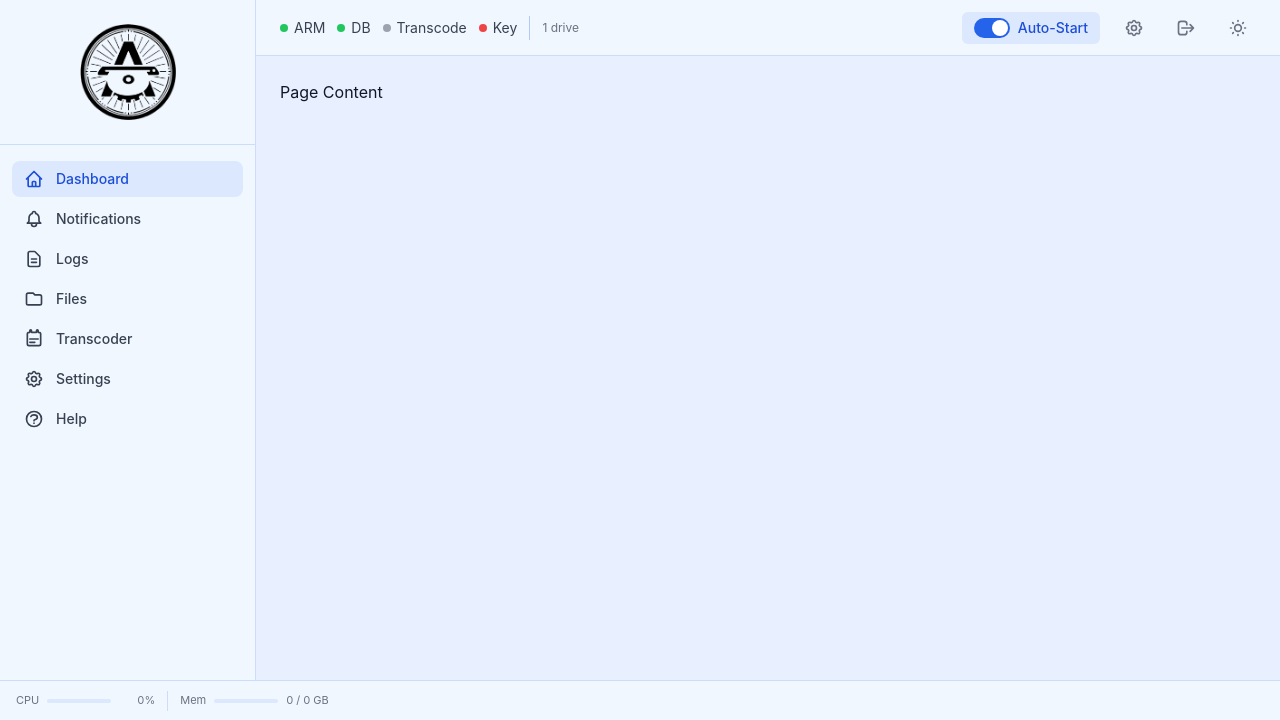
Test: Layout guest gating › hides the Rip from ISO item and mounts no picker for a signed-in non-writer
The width and height of the screenshot is (1280, 720).
Click the button titled "Quick actions".
click(1134, 28)  # box [1116, 10, 1152, 46]
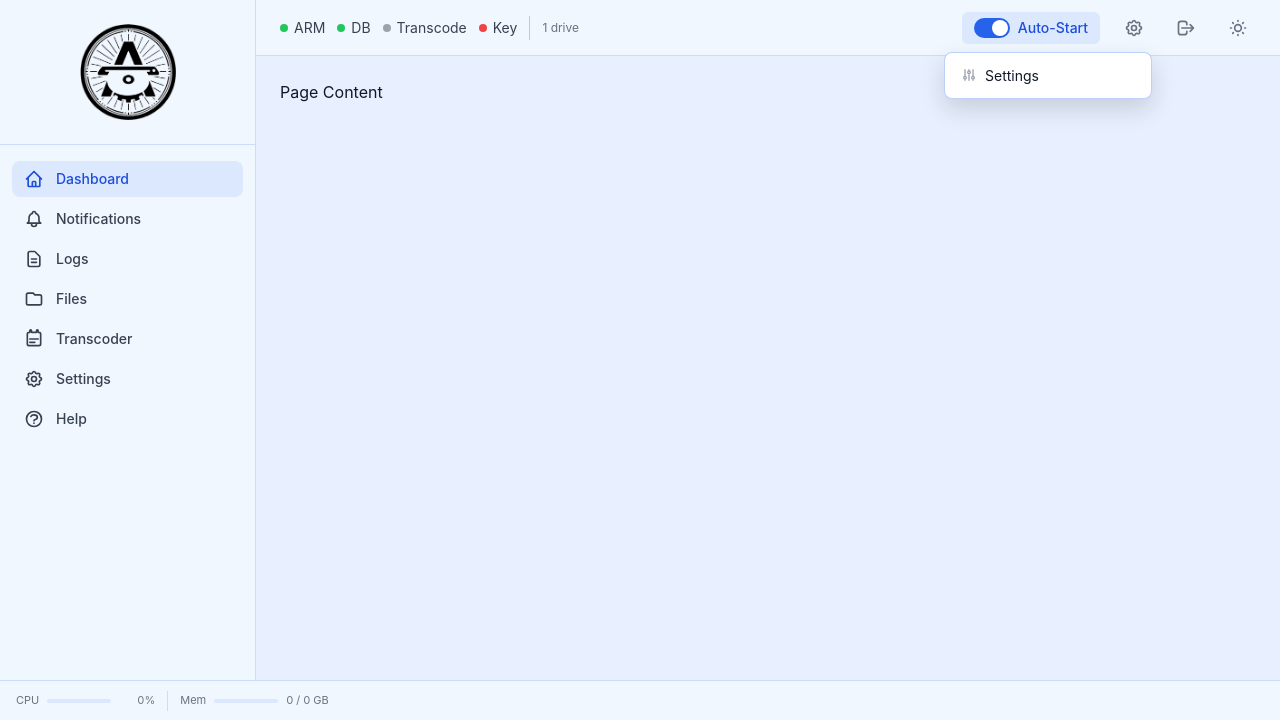
Now the menu item "Settings" is shown, box [949, 56, 1147, 94]
